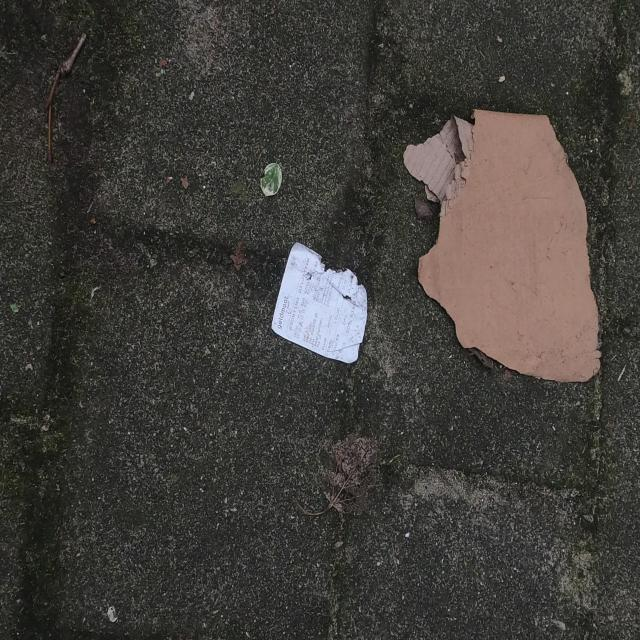Paper: (270, 241, 368, 366)
